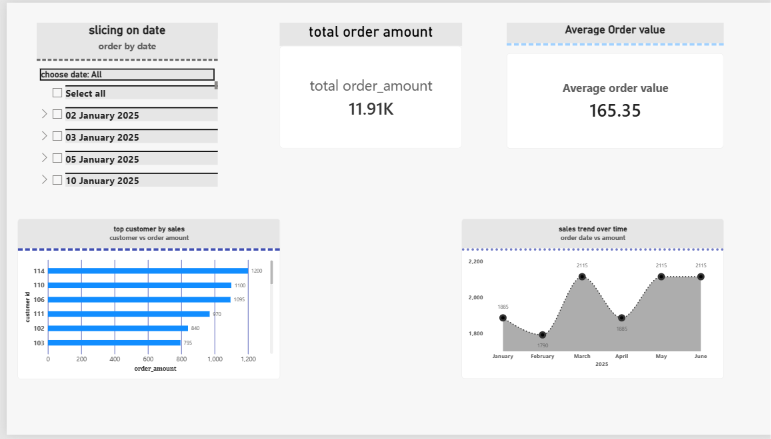

This screenshot's page, from the dashboard's own definition file:
{"tool":"powerbi","page":{"name":"Page 1","canvas":[1920,1080],"ordinal":0},"visuals":[{"type":"cardVisual","title":"total order amount","fields":{"Data":["Sum(sales_order customer_sales.order_amount)"]},"box":[682.5,50,455.7,314.9],"z":0},{"type":"clusteredBarChart","title":"top customer by sales","fields":{"Category":["sales_order customer_sales.customer_id"],"Y":["Sum(sales_order customer_sales.order_amount)"]},"box":[27.5,540,656.2,401],"z":1000},{"type":"lineChart","title":"sales trend over time","fields":{"Category":["sales_order customer_sales.order_date.Variation.Date Hierarchy.Year","sales_order customer_sales.order_date.Variation.Date Hierarchy.Month"],"Y":["Sum(sales_order customer_sales.order_amount)"]},"box":[1137.5,540,655,400],"z":2000},{"type":"slicer","title":"slicing on date","fields":{"Values":["sales_order customer_sales.order_date","sales_order customer_sales.order_date.Variation.Date Hierarchy.Year","sales_order customer_sales.order_date.Variation.Date Hierarchy.Month"]},"box":[75,50,452.5,412.5],"z":2001},{"type":"cardVisual","title":"Average Order value","fields":{"Data":["sales_order customer_sales.Average order value"]},"box":[1250,50,542.5,315],"z":2002}]}

Visuals, with their boxes in screenshot pixels (x1, y1, x2, y2), scaled from the page's 1920x1080 canvas onto the 771x439 screenshot:
"total order amount" cardVisual: Rect(274, 20, 457, 148)
"top customer by sales" clusteredBarChart: Rect(11, 220, 275, 382)
"sales trend over time" lineChart: Rect(457, 220, 720, 382)
"slicing on date" slicer: Rect(30, 20, 212, 188)
"Average Order value" cardVisual: Rect(502, 20, 720, 148)
